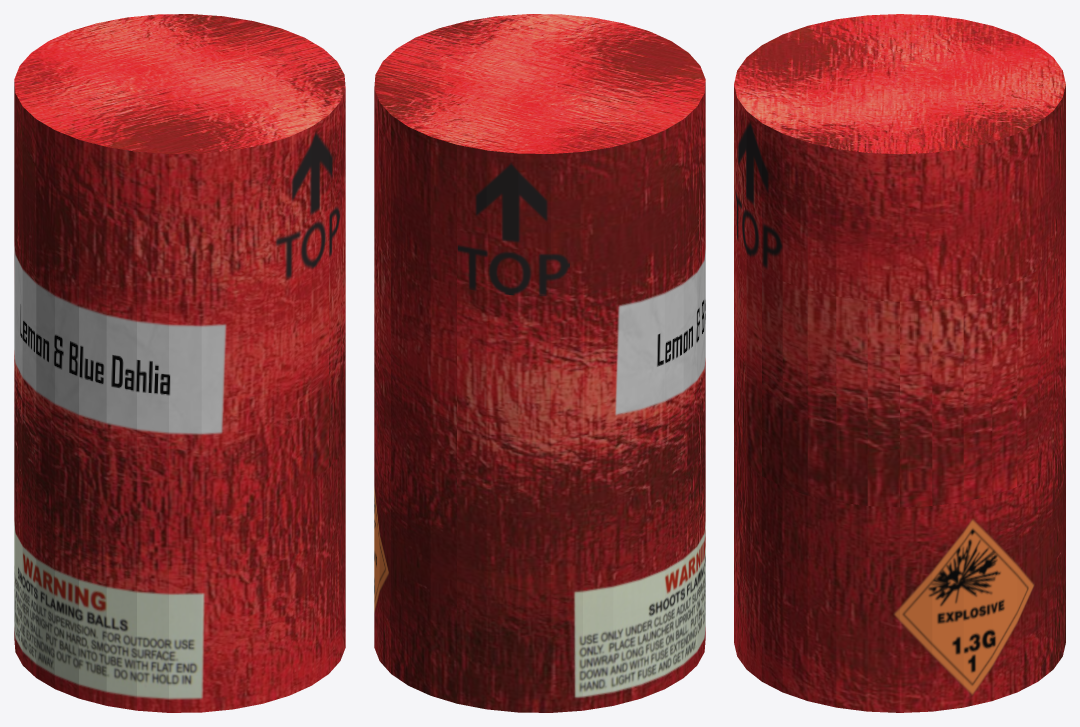
File: Shell Canister 3 Inch LemonBlueDahlia.fbx
3 views of the same model, side by side, from view 1: azimuth 30°, elevation 25°; view 2: azimuth 150°, elevation 25°; view 3: azimuth 270°, elevation 25° (orthographic).
Parts seen in each view (by area): view 1: Cylinder; view 2: Cylinder; view 3: Cylinder.
Part boxes in pixels (box(x1,y1,x2,y2)): Cylinder: box(14, 14, 345, 712); Cylinder: box(374, 14, 705, 712); Cylinder: box(734, 14, 1065, 712).
Bounding box in the file's own units: 14 × 26 × 14.
